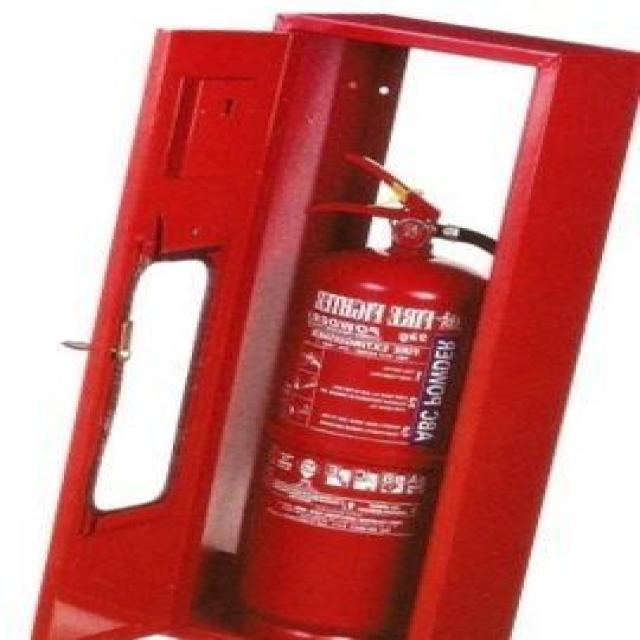fire_extinguisher: (223, 146, 540, 638)
